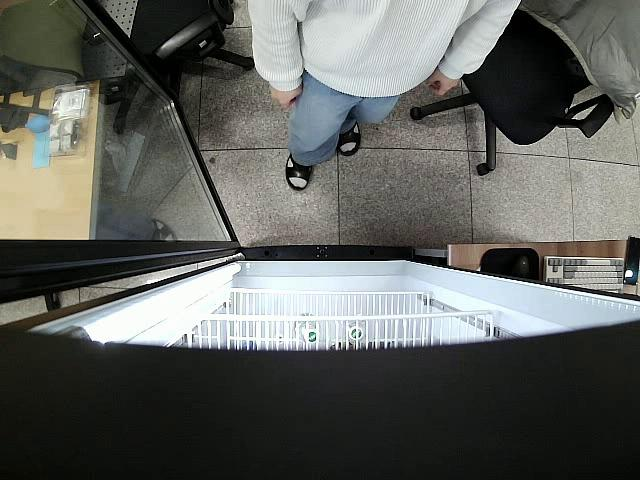00_hand: (267, 75, 305, 111), (422, 65, 461, 97)
